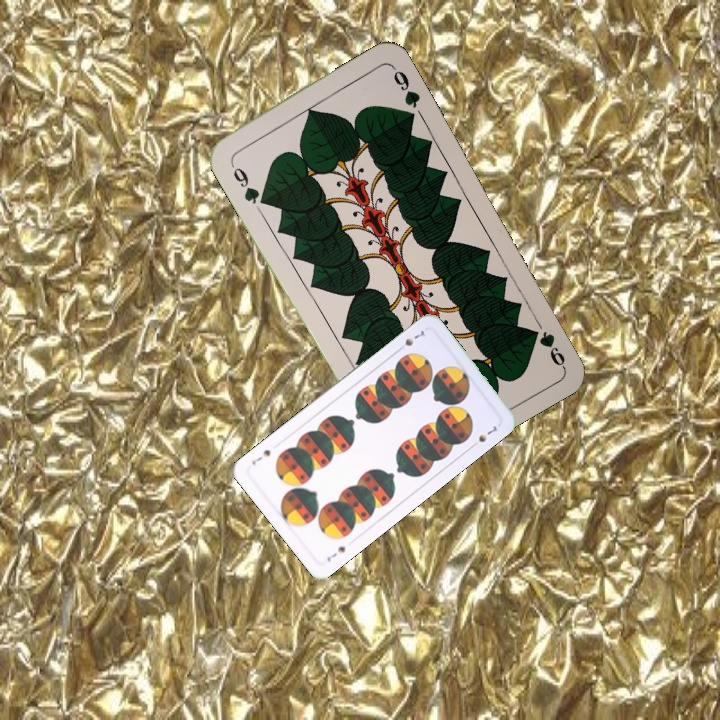G9: (226, 157, 269, 207), (527, 325, 568, 369)
S7: (393, 326, 427, 354), (323, 542, 348, 564)
